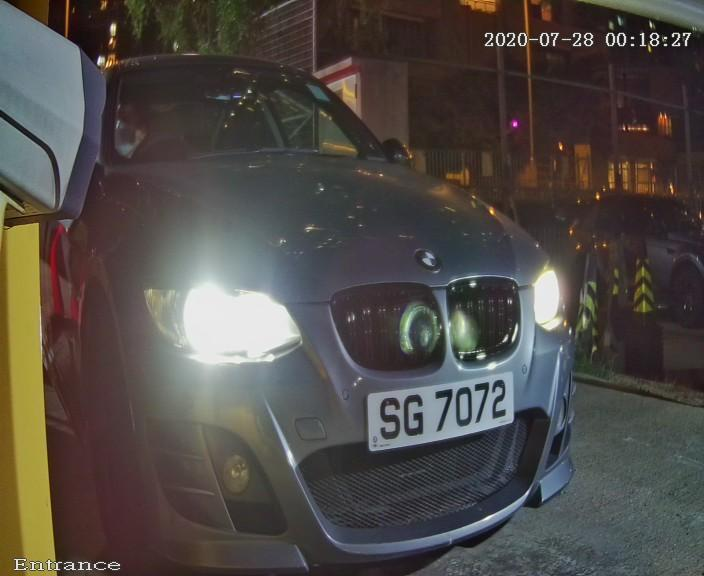privatecar: (59, 26, 587, 558)
